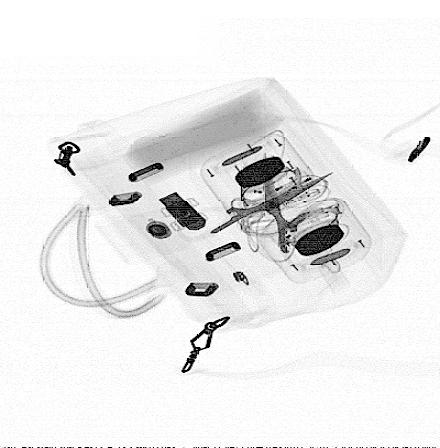Scissors: (174, 150, 335, 271)
